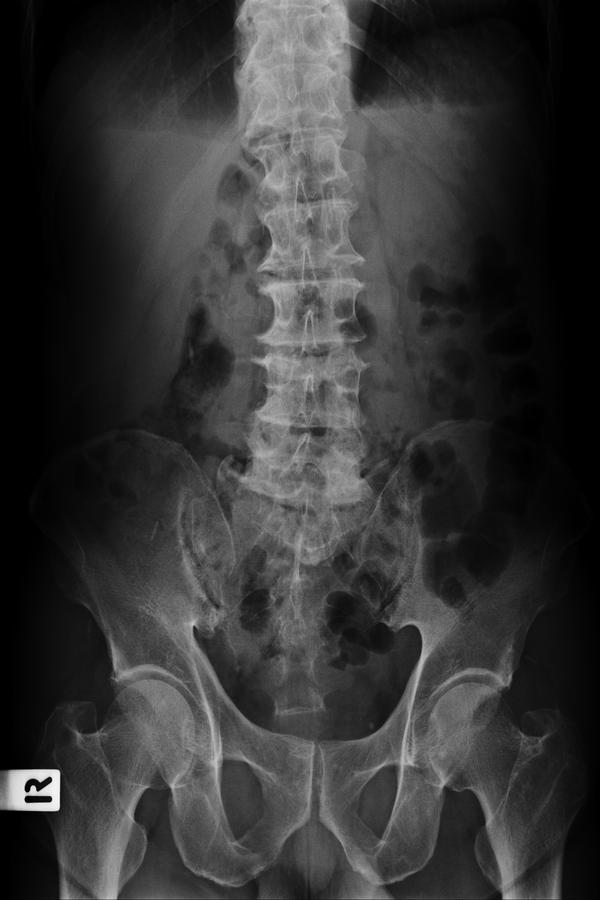lumbar scoliosis: (228, 6, 372, 540)
